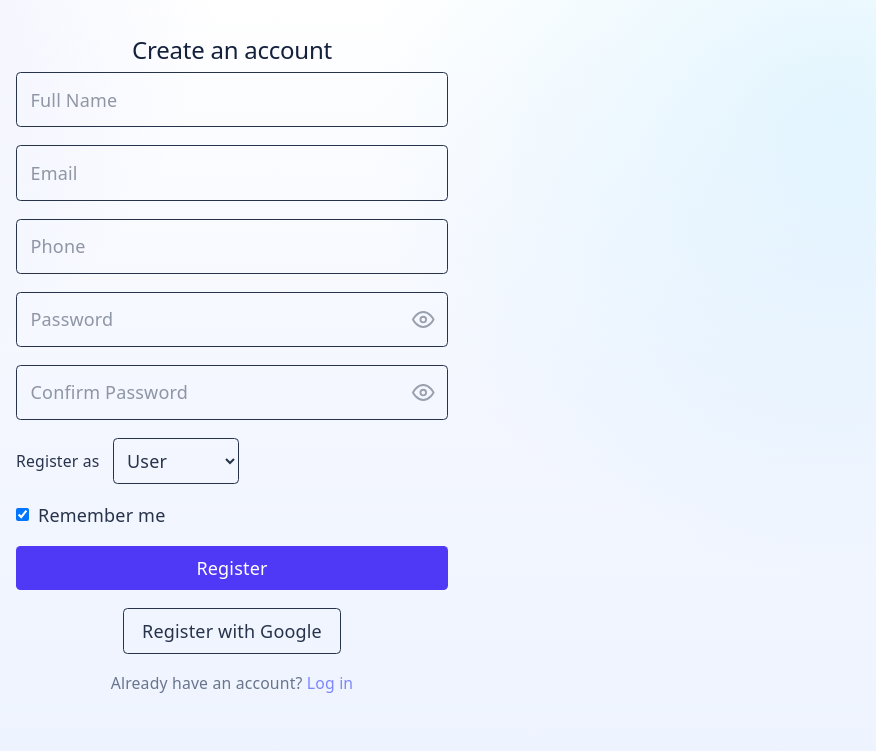
Test case: Authentication pages › requires matching passwords before registration
The width and height of the screenshot is (876, 751).
In the field with placeholder "Full Name": (232, 100) [16,72,448,127], type "Jane Doe"
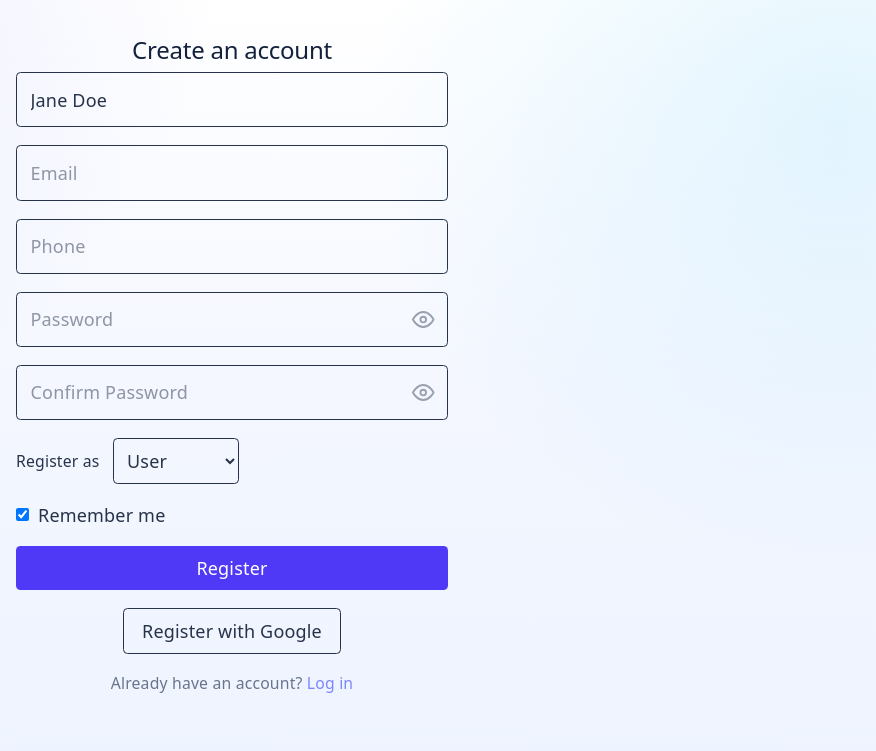
In the field with placeholder "Email": (232, 173) [16,145,448,200], type "jane@example.test"
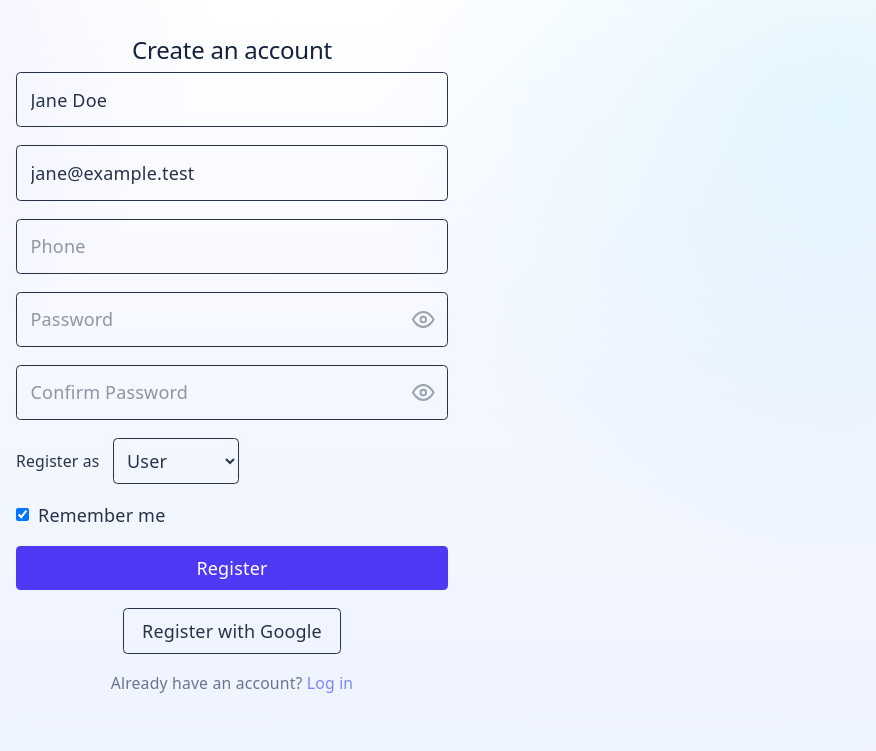
In the password field with placeholder "Password": (232, 319) [16,292,448,347], type "secret123"
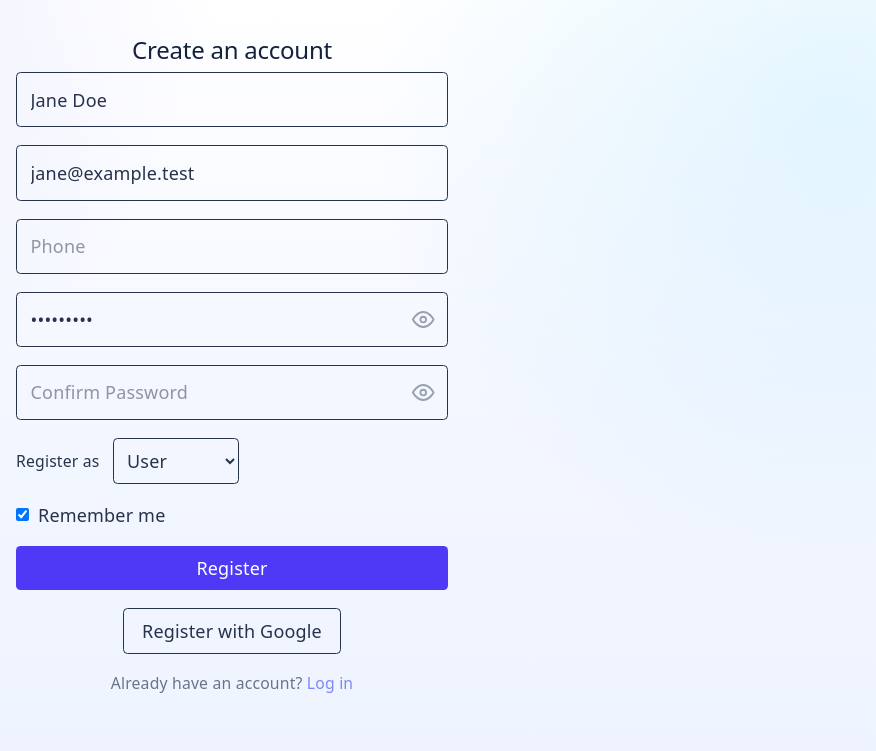
In the password field with placeholder "Confirm Password": (232, 392) [16,365,448,420], type "different123"
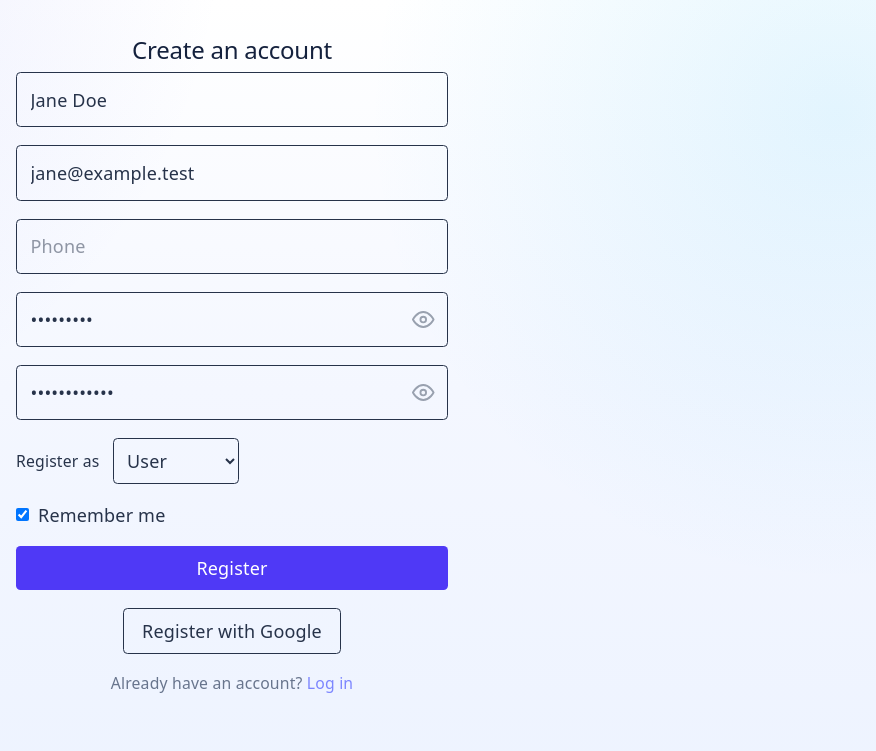
Click the button "Register": click(232, 568) [16,546,448,590]
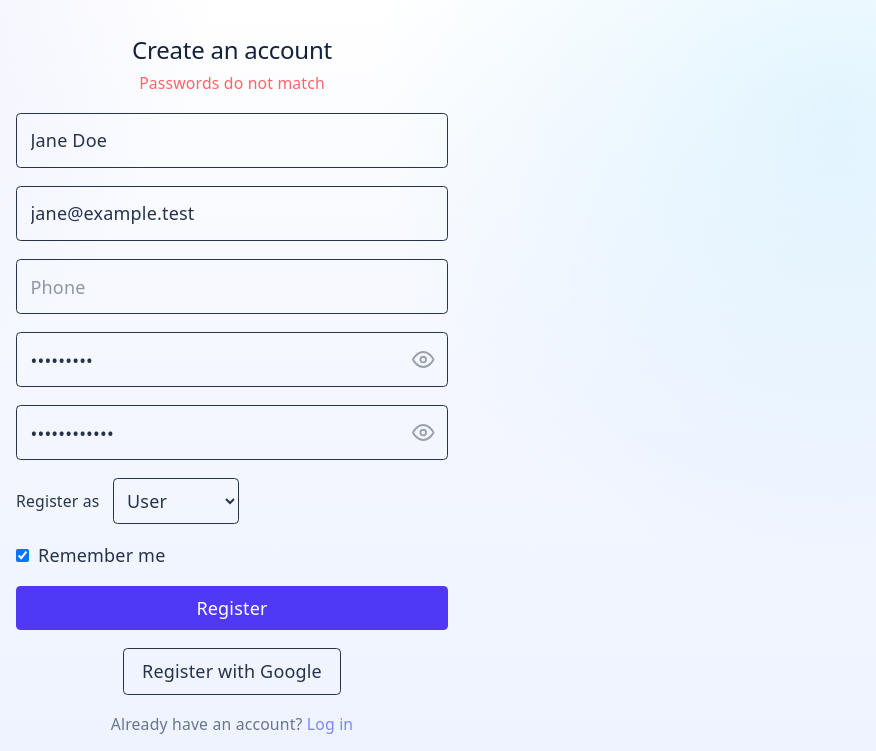
Expected: the text "Passwords do not match" is shown, [139,72,325,94]
